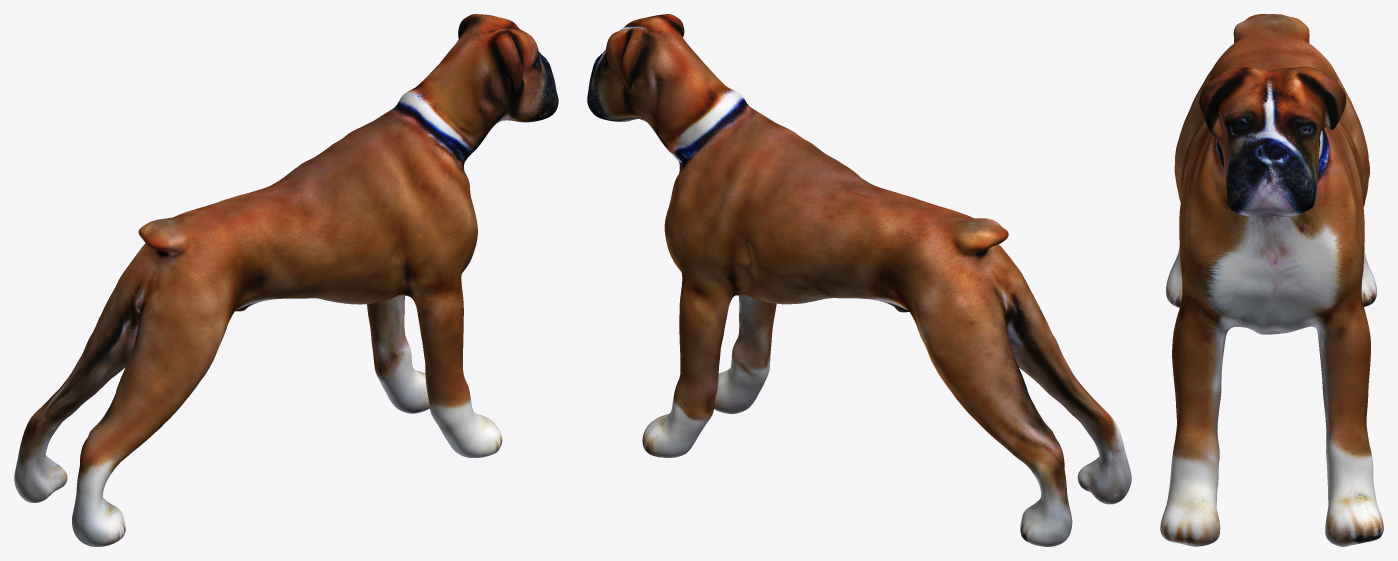
Rendered from a_boxer_dog.glb.
3 views of the same model, side by side, from view 1: azimuth 30°, elevation 25°; view 2: azimuth 150°, elevation 25°; view 3: azimuth 270°, elevation 25° (orthographic). The views are drawn at different scales.
Parts seen in each view (by area): view 1: model_0; view 2: model_0; view 3: model_0.
Boxes of the visible parts, left/top/right/bottom form: model_0: left=14, top=14, right=558, bottom=546; model_0: left=587, top=14, right=1131, bottom=546; model_0: left=1160, top=14, right=1383, bottom=546.
Bounding box in the file's own units: 1.56 × 1.18 × 0.4708.
1 material, 1 textured.
